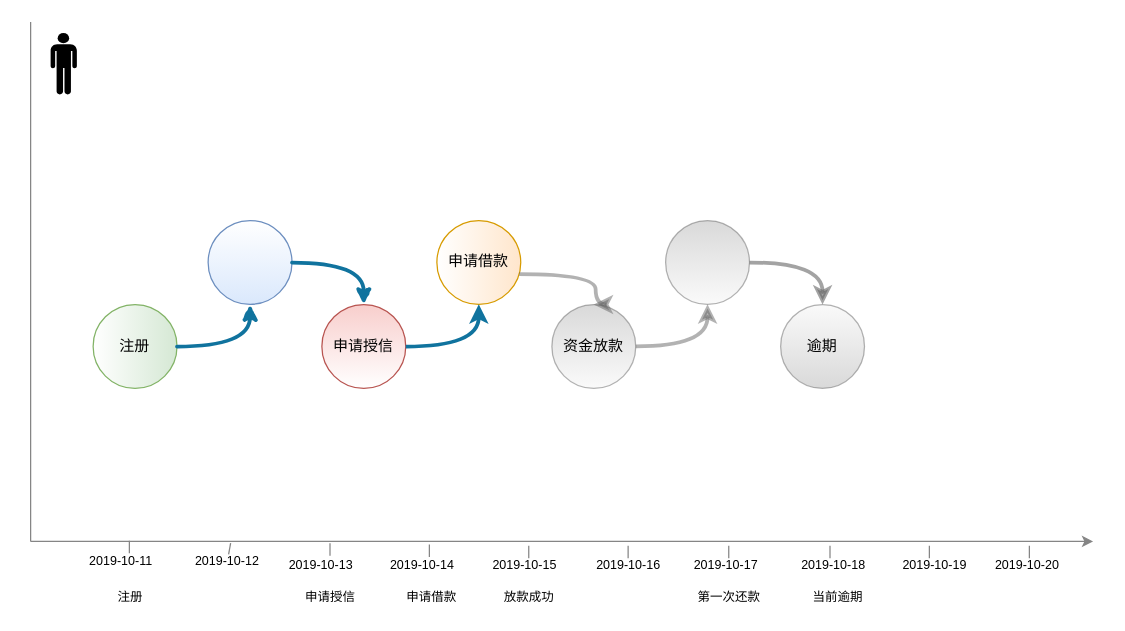
This 1125x631 diagram has some shape labels left out. The centre of each missing label's shape, as x and y in pixels:
"登录" belongs at point (249, 261).
"还款" belongs at point (707, 261).
